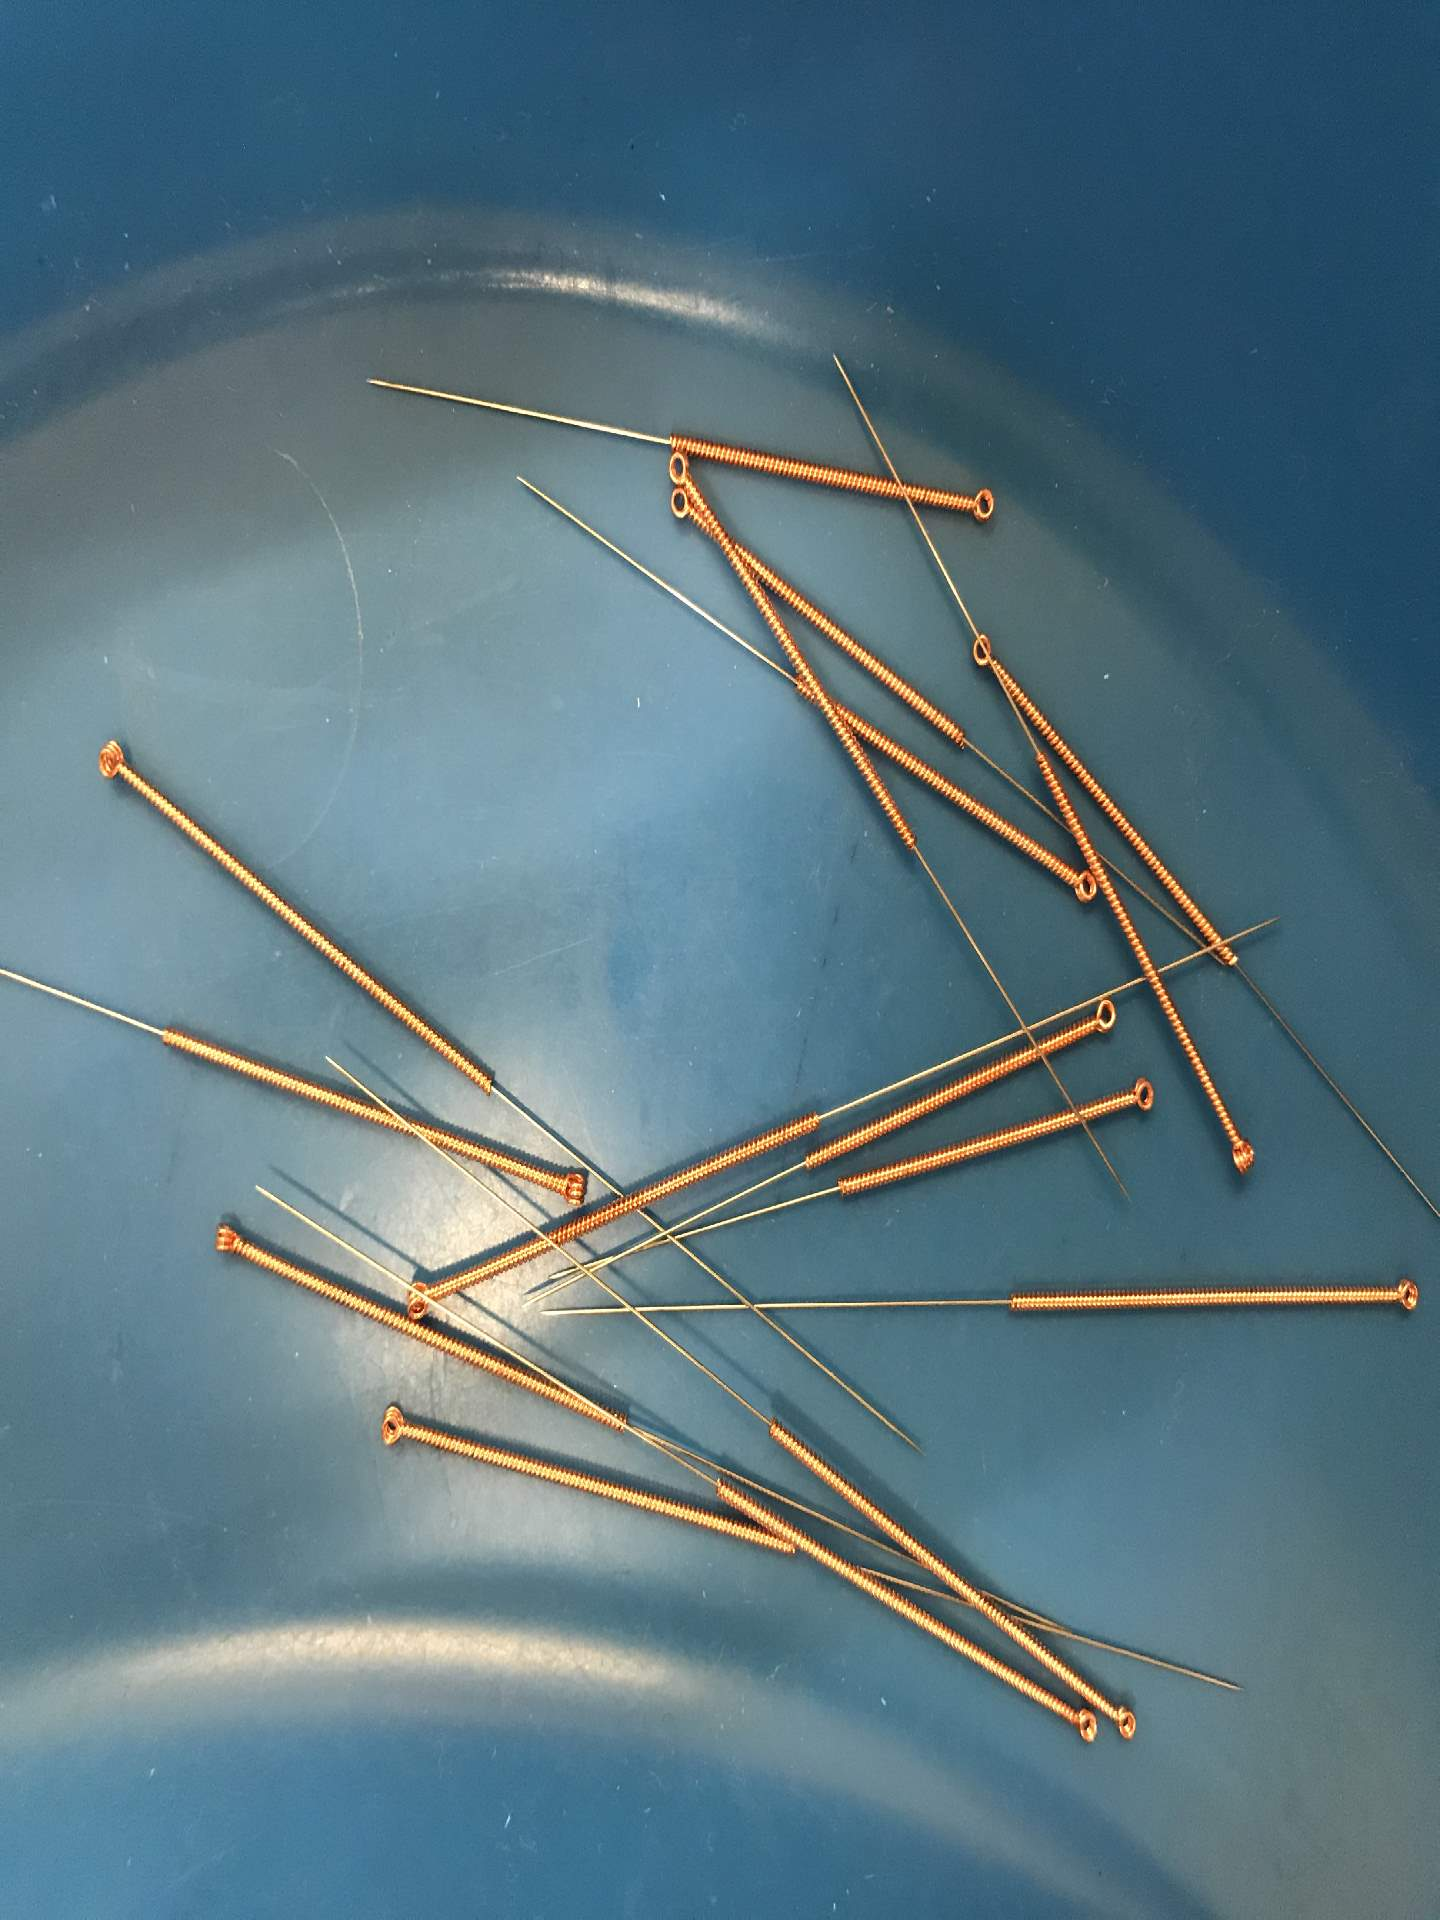needle: (360, 1398, 433, 1457), (1213, 1111, 1265, 1191), (198, 1211, 263, 1273), (950, 472, 1010, 537), (83, 727, 144, 791), (1075, 992, 1136, 1054), (1110, 1066, 1171, 1126), (964, 627, 1016, 689), (529, 1163, 594, 1211), (1376, 1267, 1429, 1323), (1050, 1701, 1101, 1749), (1103, 1695, 1147, 1749), (1050, 863, 1098, 912), (404, 1264, 442, 1324), (664, 447, 702, 491), (663, 485, 696, 531)
